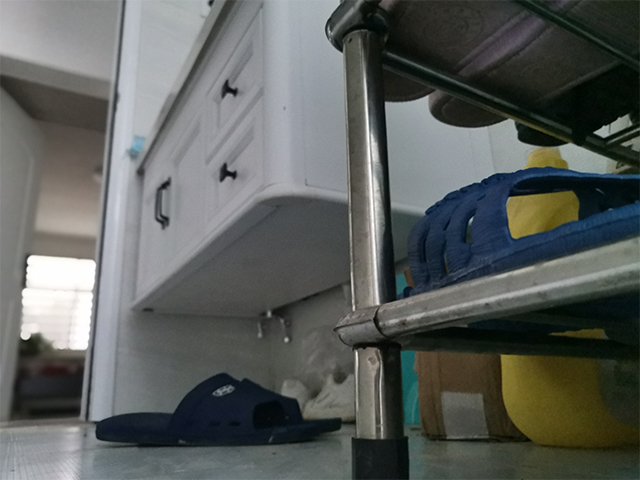slippers: (91, 371, 344, 448)
